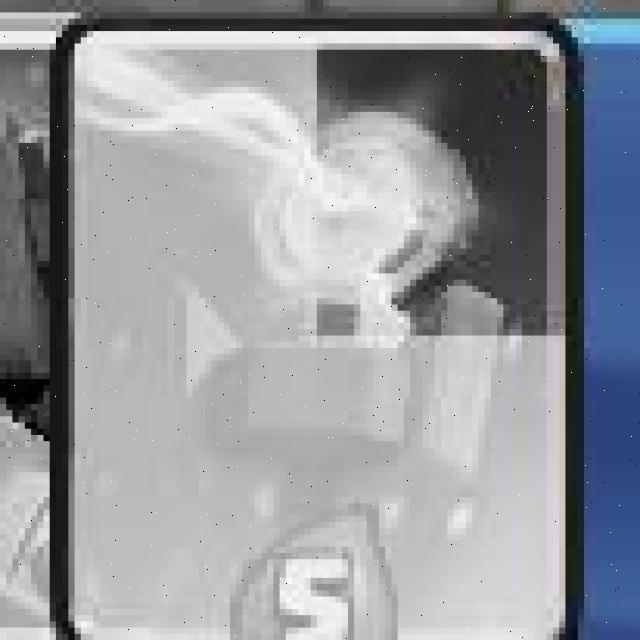Inferno_Tower: (65, 17, 588, 640)
